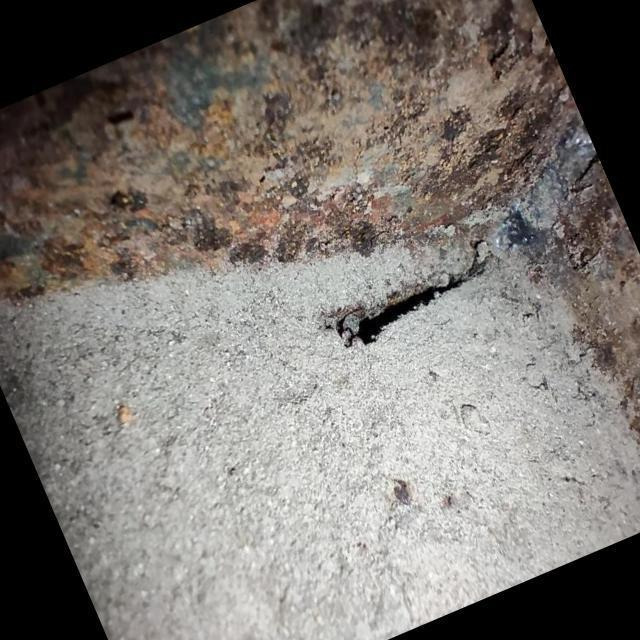defect: (329, 233, 491, 350)
